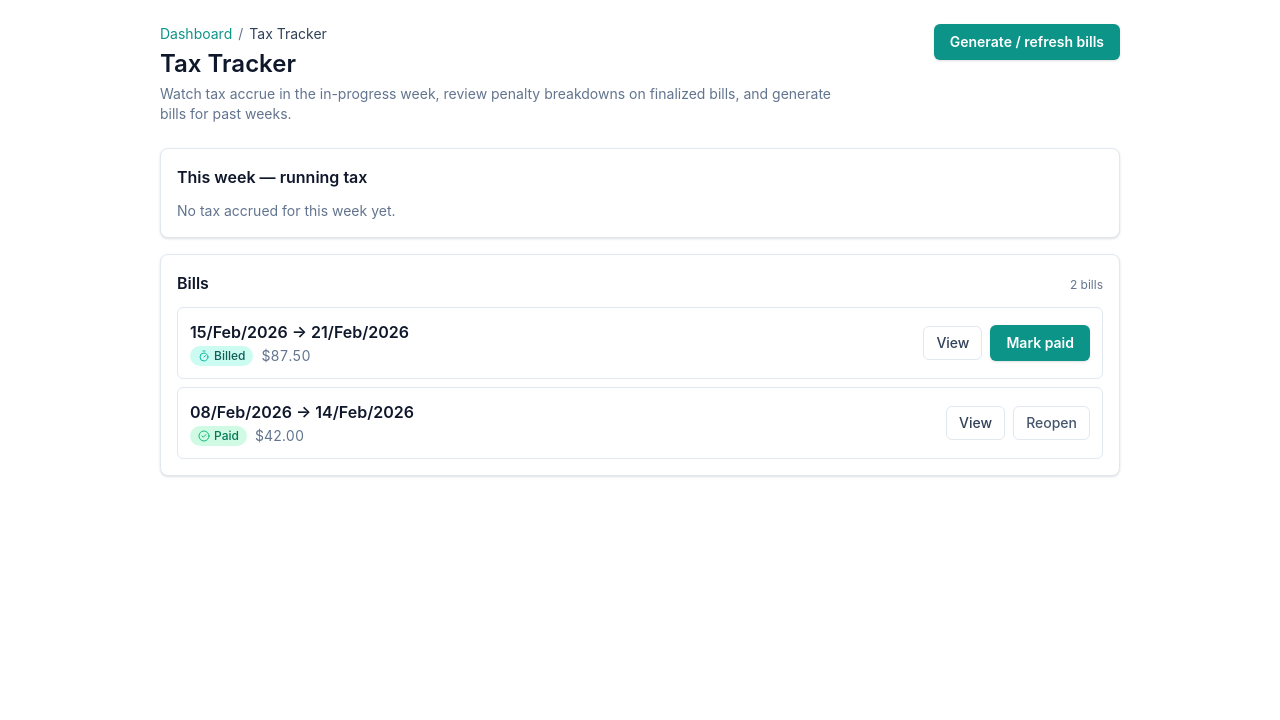
Test: TaxTrackerPage › opens the bill detail modal, shows the Amount column, and exposes Pay inside the modal
Expected: the list item with test id "bill-row-101" is shown, x1=177 y1=307 x2=1103 y2=379
Click the button "View" in the row of "15/Feb/2026" at (953, 343), box x1=923 y1=326 x2=982 y2=360
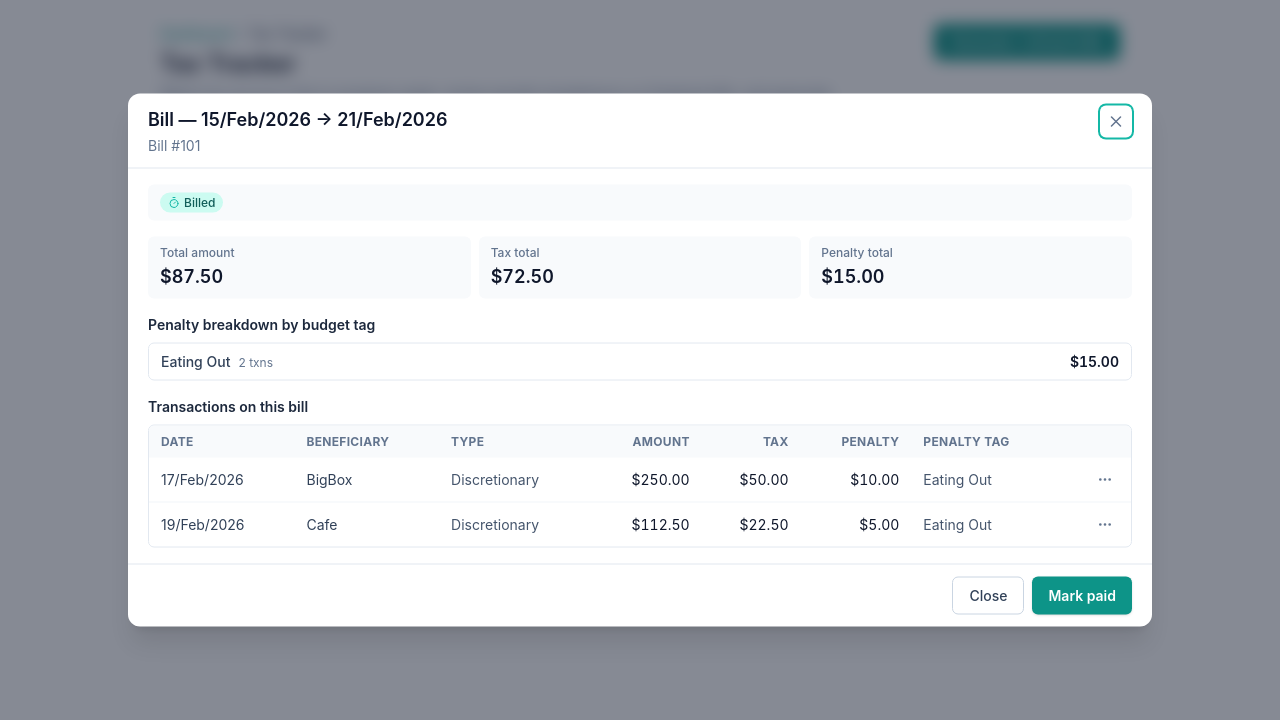
Expected: the heading "Bill — 15/Feb/2026 → 21/Feb/2026" is shown, x1=148 y1=106 x2=448 y2=134
Expected: the column heading "Amount" is shown, x1=590 y1=426 x2=702 y2=458
Expected: the text "$250.00" is shown, x1=590 y1=458 x2=702 y2=502
